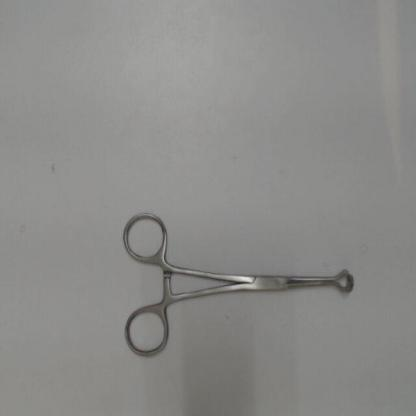Babcock Tissue Forceps: (118, 204, 358, 361)
